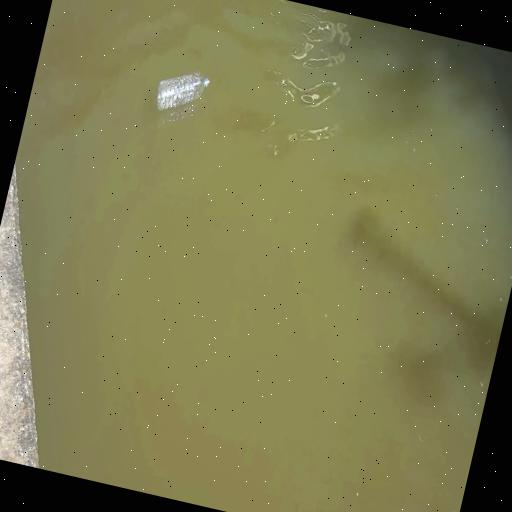plastic: (152, 62, 212, 122)
